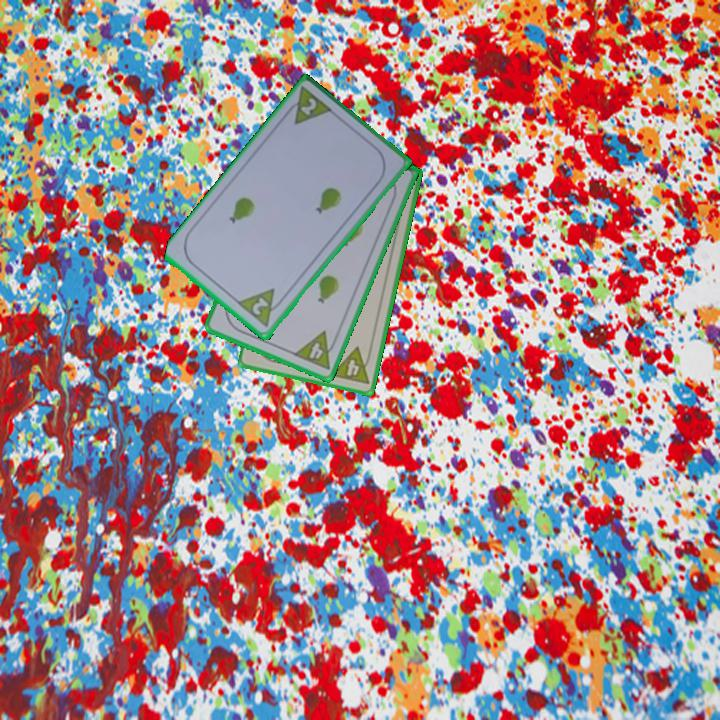2p: (234, 285, 288, 331), (280, 84, 336, 128)
4p: (290, 328, 341, 373), (328, 344, 375, 388)
